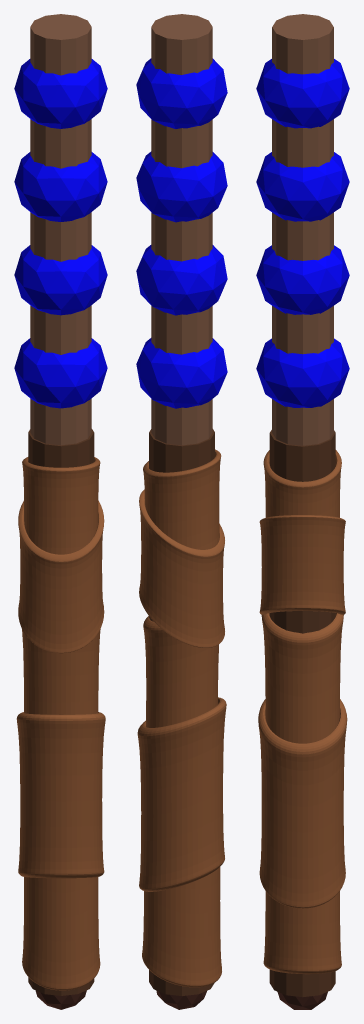
File: Wand 330.glb
The picture shows the model from 3 angles, left to right: view 1: azimuth 90°, elevation 25°; view 2: azimuth 150°, elevation 25°; view 3: azimuth 270°, elevation 25°; orthographic projection.
Parts seen in each view (by area): view 1: GeneratedWand; view 2: GeneratedWand; view 3: GeneratedWand.
Boxes of the visible parts, x1,y1,x2,y2 form: GeneratedWand: (14, 14, 107, 1009); GeneratedWand: (136, 14, 227, 1009); GeneratedWand: (256, 14, 349, 1009).
Bounding box in the file's own units: 0.0408 × 0.4965 × 0.0428.
